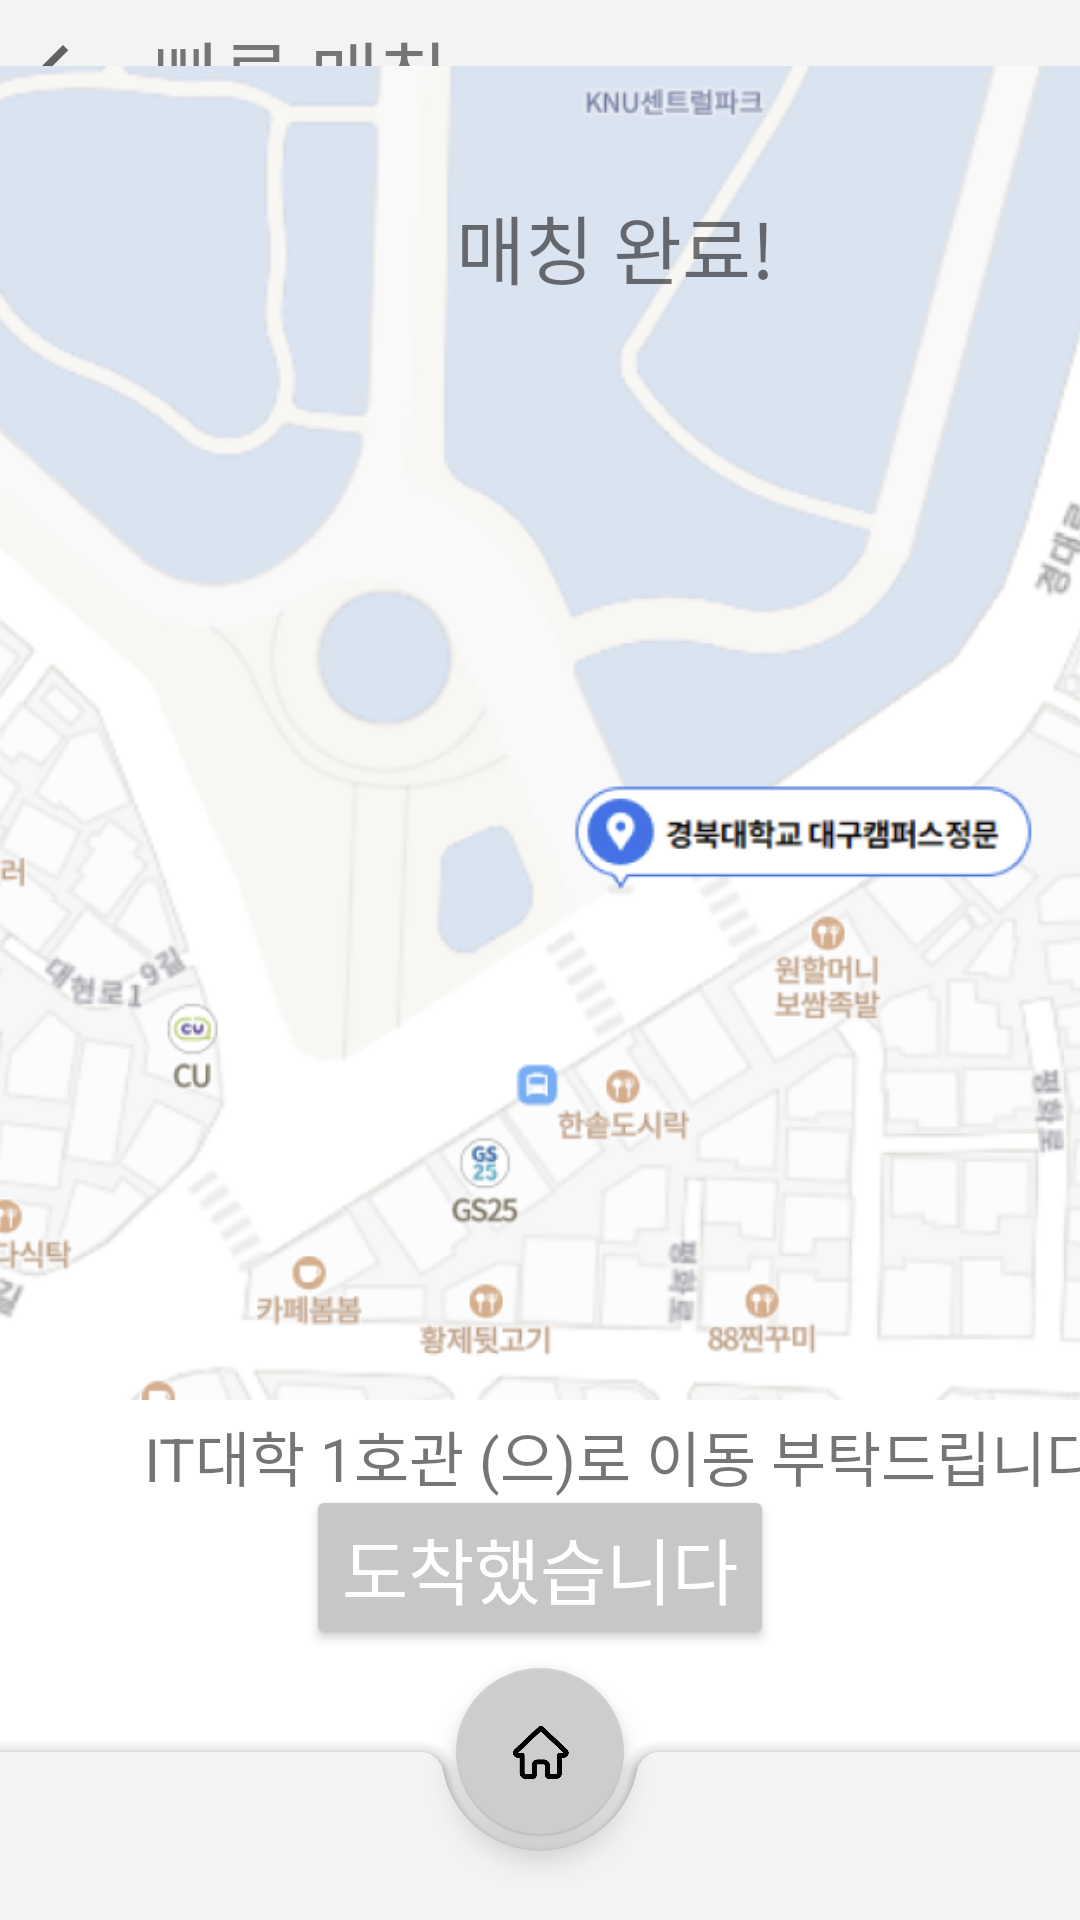

Icons on this 1080px×1920px Android screen, each with its box as (x1, y1, x2, y2):
homebutton: (456, 1668, 624, 1836)
